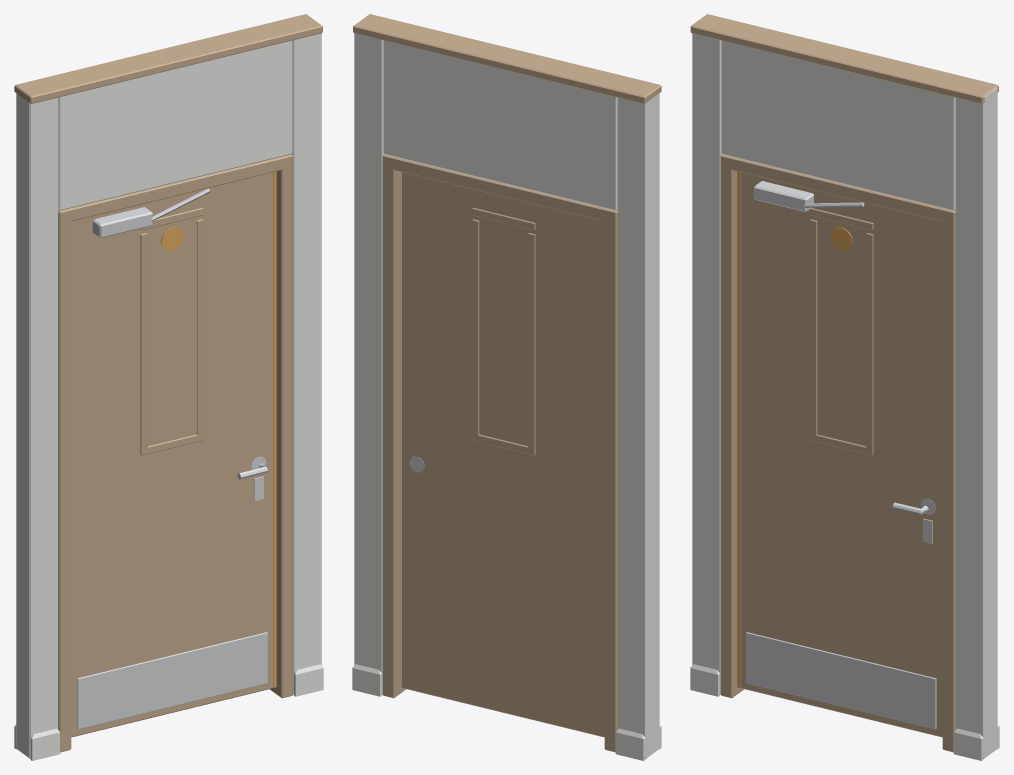
The model's file is office-lobby-and-facilities-fire-door-module-66d2dc46__26168.glb.
3 renders of one model, left to right at view 1: azimuth 30°, elevation 25°; view 2: azimuth 150°, elevation 25°; view 3: azimuth 330°, elevation 25°, orthographic.
Parts seen in each view (by area): view 1: fire-door-module, fire-door/surface, fire-door/metal; view 2: fire-door/surface, fire-door-module; view 3: fire-door-module, fire-door/surface, fire-door/metal.
Boxes of the visible parts, x1,y1,x2,y2 form: fire-door-module: (14, 14, 323, 760); fire-door/surface: (71, 172, 273, 737); fire-door/metal: (77, 188, 268, 729); fire-door/surface: (402, 172, 604, 737); fire-door-module: (352, 14, 661, 760); fire-door-module: (690, 14, 999, 760); fire-door/surface: (740, 172, 942, 737); fire-door/metal: (746, 181, 936, 729).
Bounding box in the file's own units: 1.2 × 2.6 × 0.1504.
